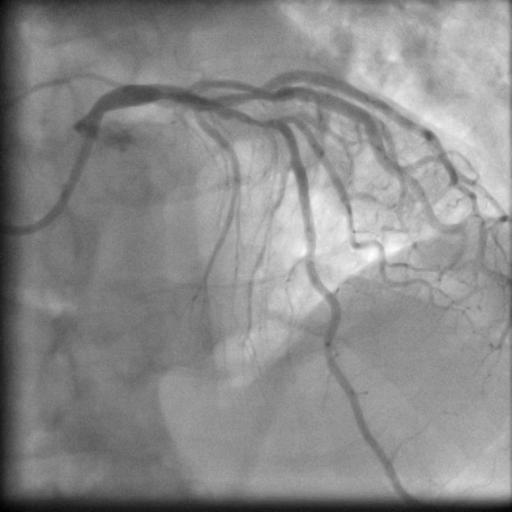Stenosis: (231, 107, 277, 127)
